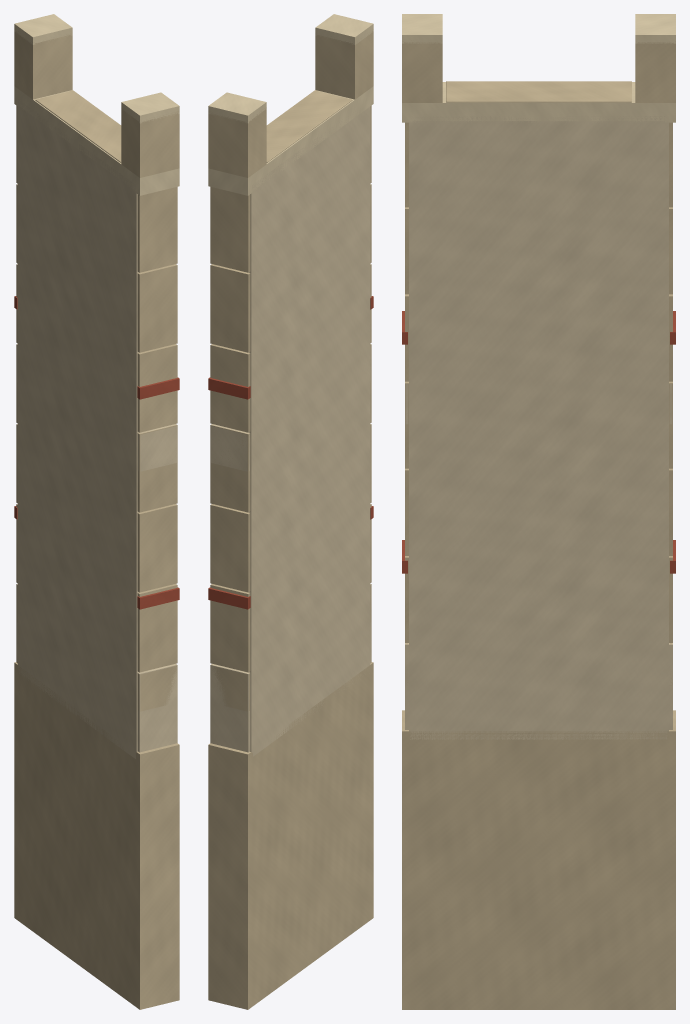
File: verona_gate_link.glb
The picture shows the model from 3 angles, left to right: view 1: azimuth 30°, elevation 25°; view 2: azimuth 150°, elevation 25°; view 3: azimuth 270°, elevation 25°; orthographic projection. The views are drawn at different scales.
Parts seen in each view (by area): view 1: Limewash.003, Travertine.001, Travertine.003, Limewash.001, Limestone_trim.001, Limestone_trim.003, Pompeian_red.001, Pompeian_red.003; view 2: Limewash.003, Travertine.001, Travertine.003, Limewash.001, Limestone_trim.003, Limestone_trim.001, Pompeian_red.001, Pompeian_red.003; view 3: Limewash.003, Limewash.001, Travertine.001, Travertine.003, Limestone_trim.001, Limestone_trim.003.
Part boxes in pixels (left/top/right/bottom): Limewash.003: left=16, top=99, right=177, bottom=758; Travertine.001: left=15, top=32, right=177, bottom=1006; Travertine.003: left=14, top=29, right=179, bottom=1009; Limewash.001: left=17, top=108, right=176, bottom=751; Limestone_trim.001: left=15, top=15, right=178, bottom=193; Limestone_trim.003: left=14, top=14, right=179, bottom=195; Pompeian_red.001: left=14, top=296, right=178, bottom=608; Pompeian_red.003: left=14, top=296, right=179, bottom=609; Limewash.003: left=210, top=107, right=371, bottom=752; Travertine.001: left=210, top=33, right=372, bottom=1006; Travertine.003: left=208, top=29, right=373, bottom=1009; Limewash.001: left=211, top=109, right=370, bottom=756; Limestone_trim.003: left=208, top=14, right=373, bottom=195; Limestone_trim.001: left=209, top=15, right=372, bottom=193; Pompeian_red.001: left=209, top=296, right=372, bottom=608; Pompeian_red.003: left=208, top=296, right=373, bottom=609; Limewash.003: left=405, top=114, right=672, bottom=739; Limewash.001: left=405, top=116, right=672, bottom=733; Travertine.001: left=404, top=42, right=673, bottom=1007; Travertine.003: left=402, top=41, right=675, bottom=1009; Limestone_trim.001: left=403, top=14, right=674, bottom=120; Limestone_trim.003: left=402, top=14, right=675, bottom=122.
Size of the model in its own units: 0.42 by 9.03 by 2.3.
4 materials, 4 textured.
